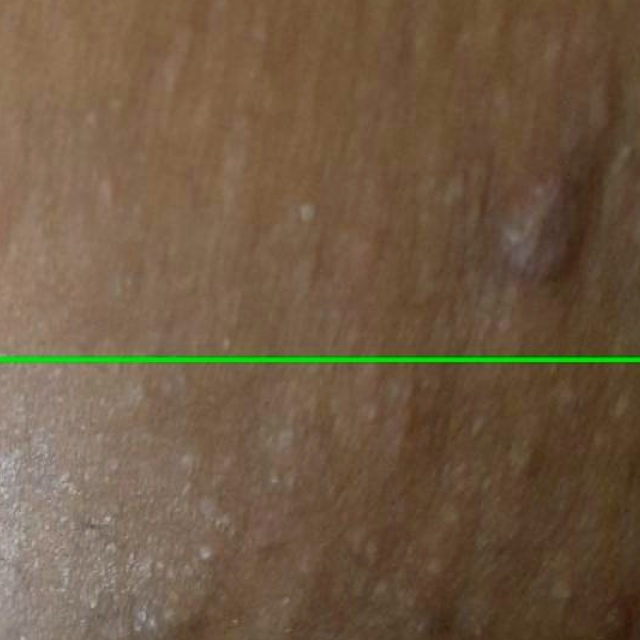Scabies: (0, 0, 639, 360)
